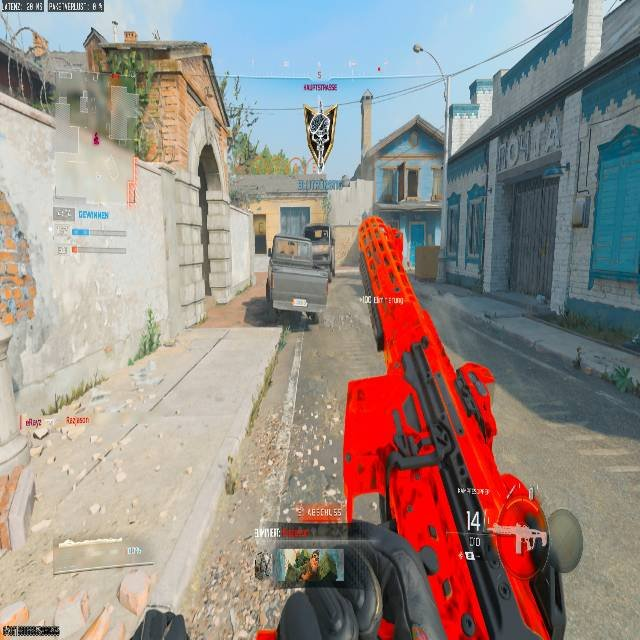head: (115, 570, 152, 616)
